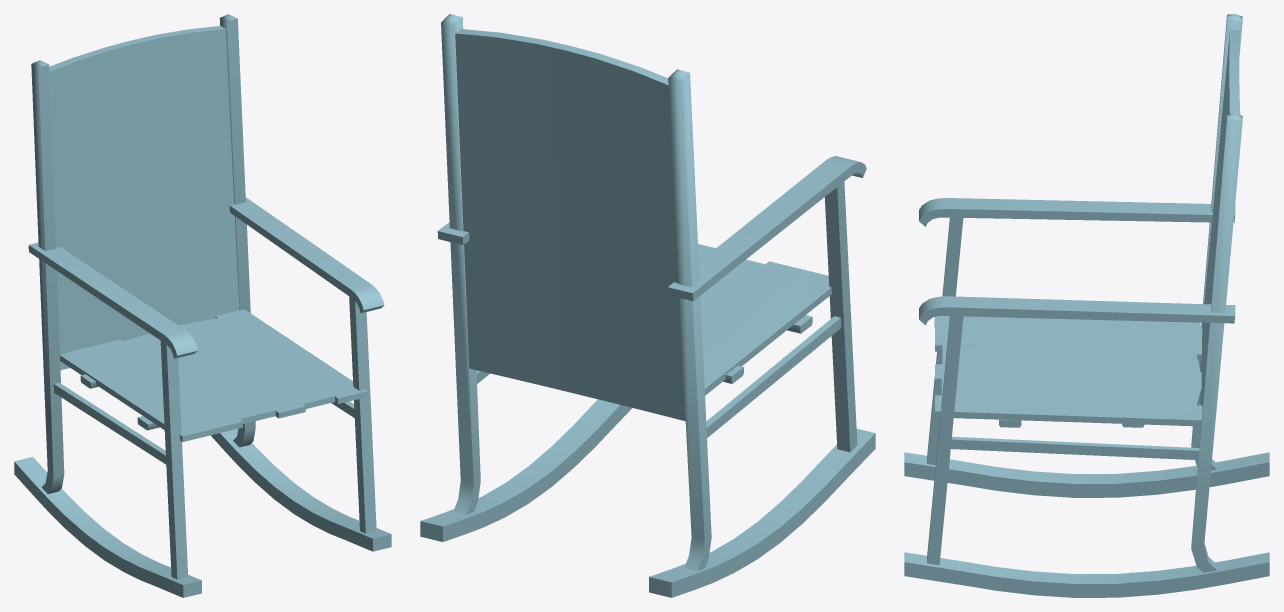
The model's file is lo_Prop_Chair_B.fbx.
3 renders of one model, left to right at view 1: azimuth 30°, elevation 25°; view 2: azimuth 150°, elevation 25°; view 3: azimuth 270°, elevation 25°, orthographic. The views are drawn at different scales.
Parts seen in each view (by area): view 1: lo_Prop_Chair_B_LOD0; view 2: lo_Prop_Chair_B_LOD0; view 3: lo_Prop_Chair_B_LOD0.
Part boxes in pixels (box(x1,y1,x2,y2)): lo_Prop_Chair_B_LOD0: box(14, 14, 391, 597); lo_Prop_Chair_B_LOD0: box(420, 14, 875, 597); lo_Prop_Chair_B_LOD0: box(904, 14, 1269, 597).
Size of what is drawn, in the model's own units: 0.8579 by 1.72 by 1.19.
